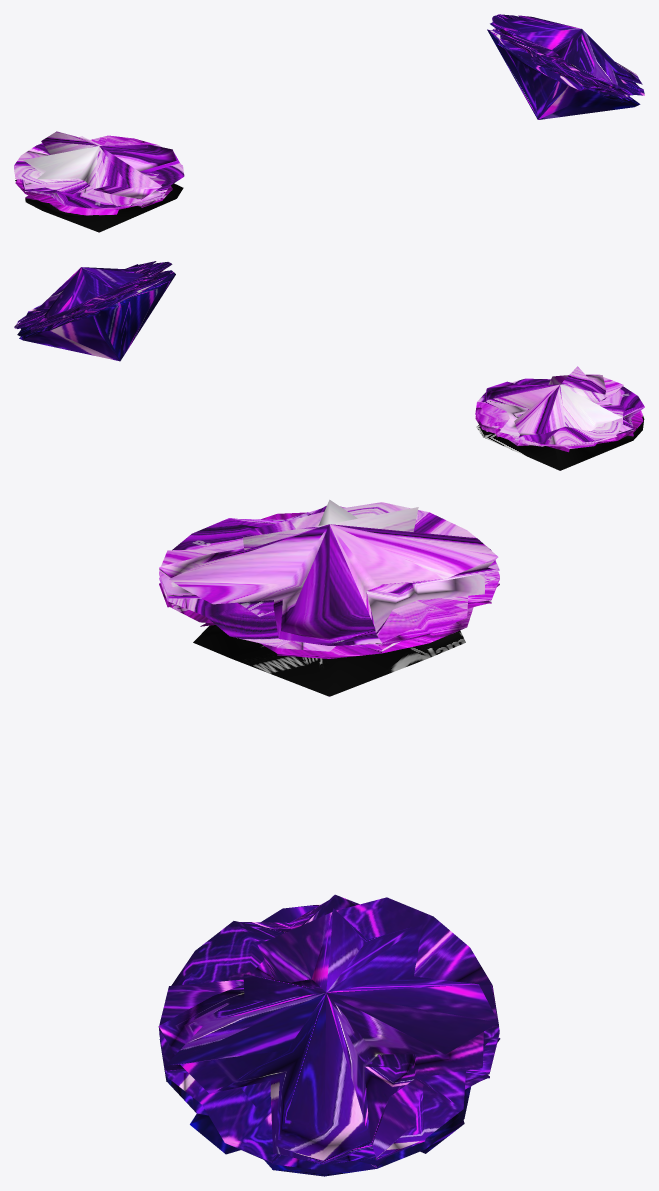
The model's file is belt.fbx.
3 views of the same model, one above another, from view 1: azimuth 30°, elevation 25°; view 2: azimuth 150°, elevation 25°; view 3: azimuth 270°, elevation 25° (orthographic). The views are drawn at different scales.
Visible parts, largest first — view 1: pSphere2, pSphere1; view 2: pSphere2, pSphere1; view 3: pSphere1, pSphere2.
Part boxes in pixels (box(x1,y1,x2,y2)): pSphere2: box(14, 131, 184, 232); pSphere1: box(487, 14, 644, 119); pSphere2: box(475, 366, 644, 470); pSphere1: box(14, 261, 175, 361); pSphere1: box(158, 894, 500, 1176); pSphere2: box(159, 499, 499, 696).
Size of what is drawn, in the model's own units: 2.43 by 0.3774 by 0.5919.
2 materials, 2 textured.
